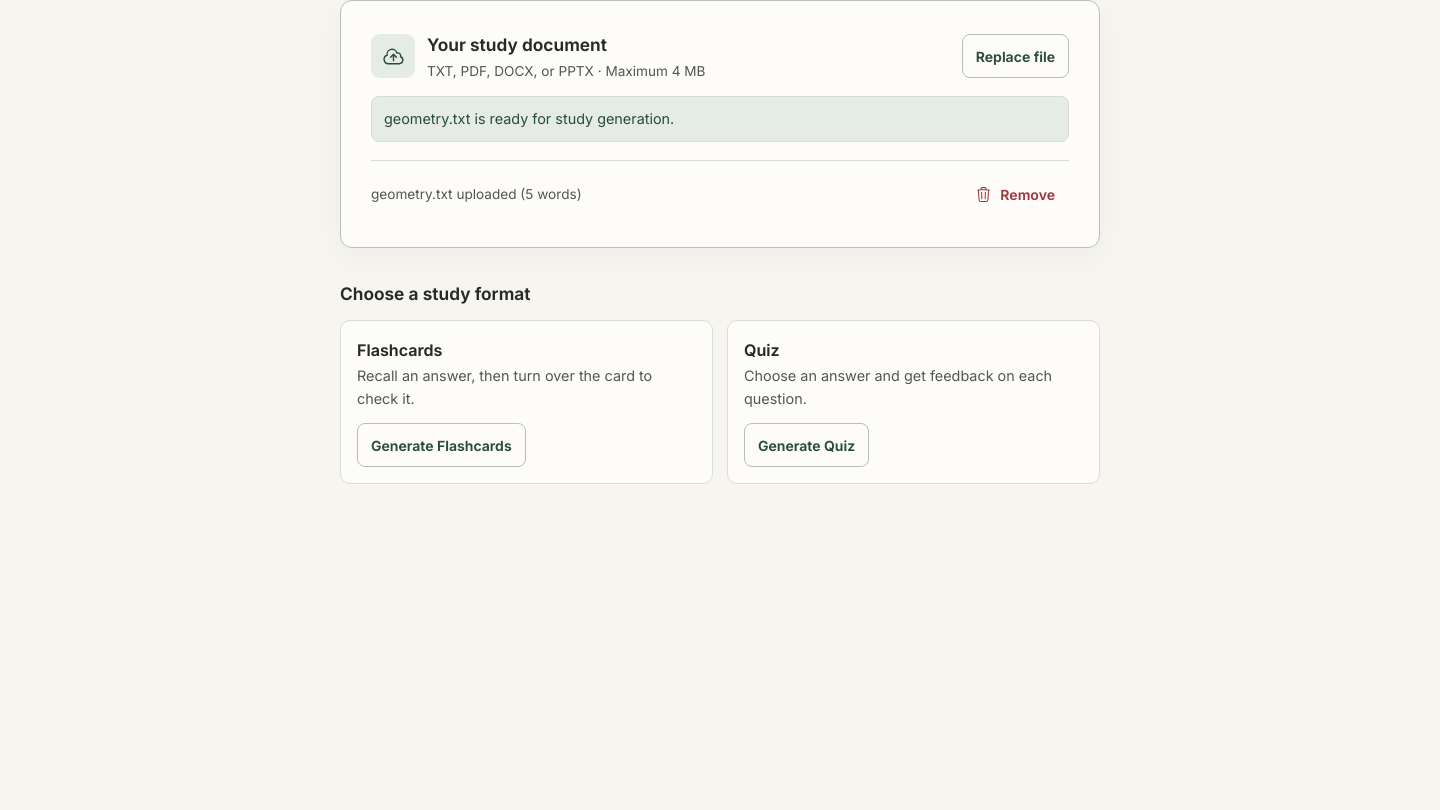
remove while generation is pending discards stale results
Earlier steps of the test are not shown.
Expected: the text "geometry.txt uploaded (5 words)" is shown, [371,184,582,206]
What coordinates should you click on to do the following:
click the button "Generate Flashcards"
I would click on:
 (441, 445)
Its box is [357,423,526,467].
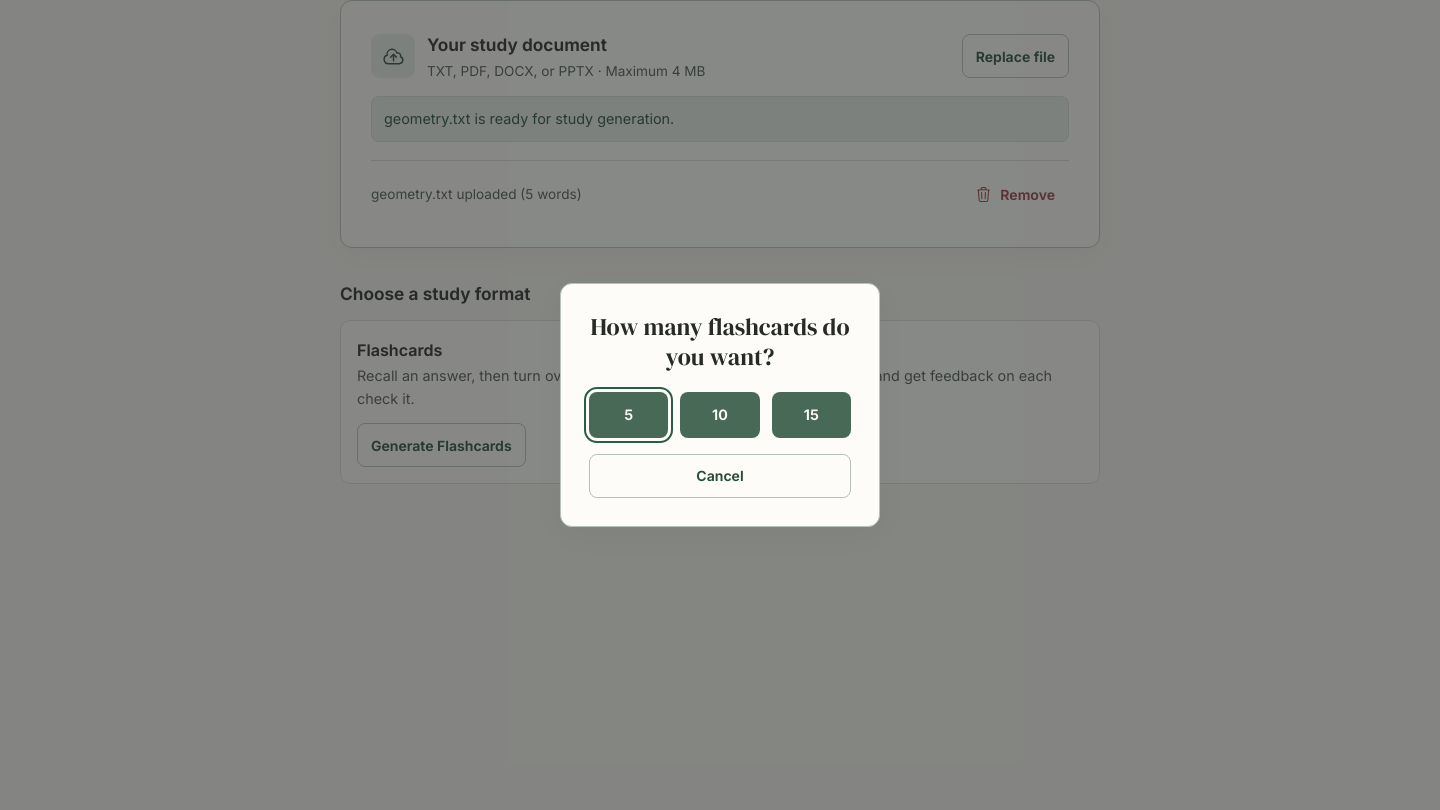
What coordinates should you click on to do the following:
click the button "5"
I would click on:
 (629, 415)
Its box is [589,392,668,438].
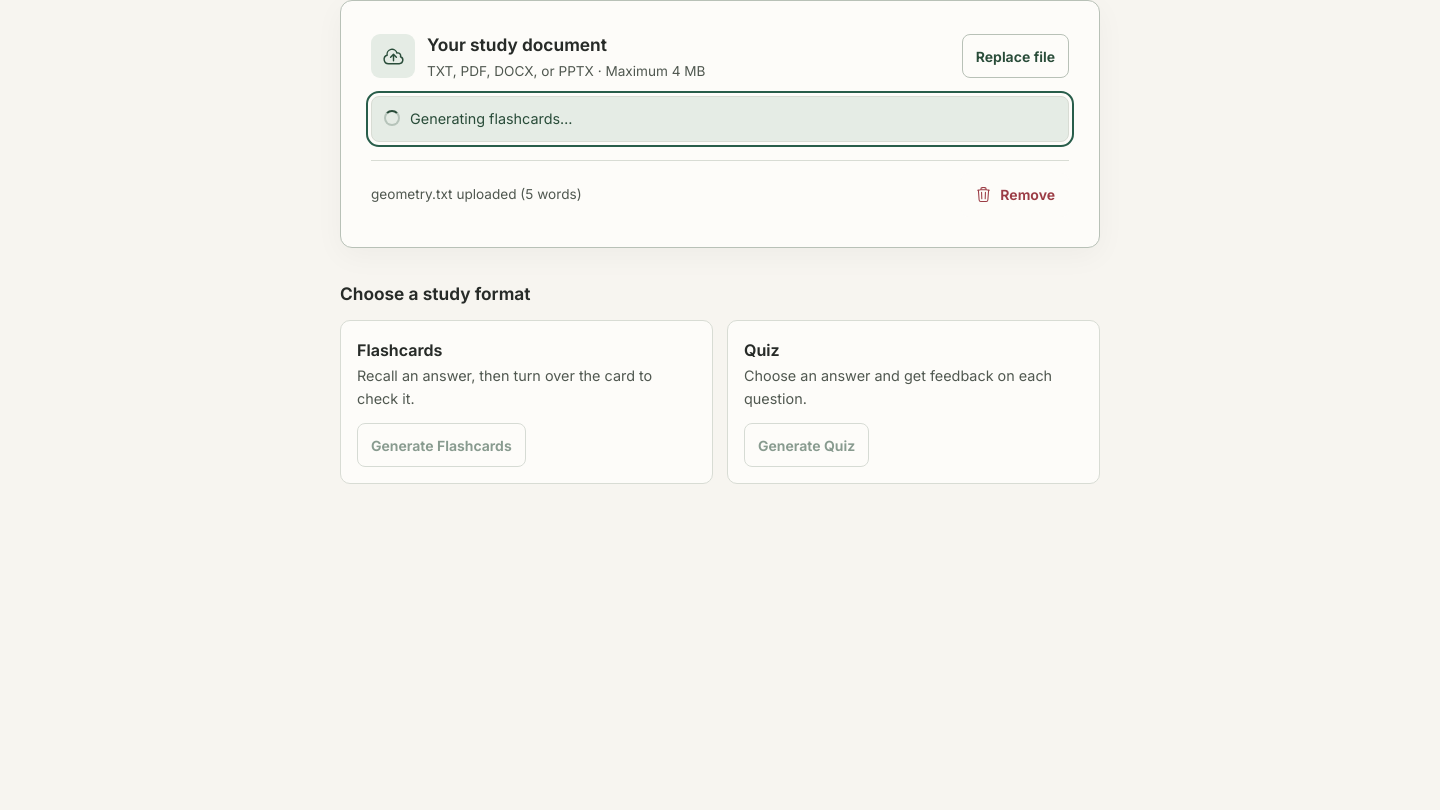
What coordinates should you click on to do the following:
click the button with aria-label "Remove document"
I would click on:
 (1015, 195)
Its box is [961,173,1069,217].
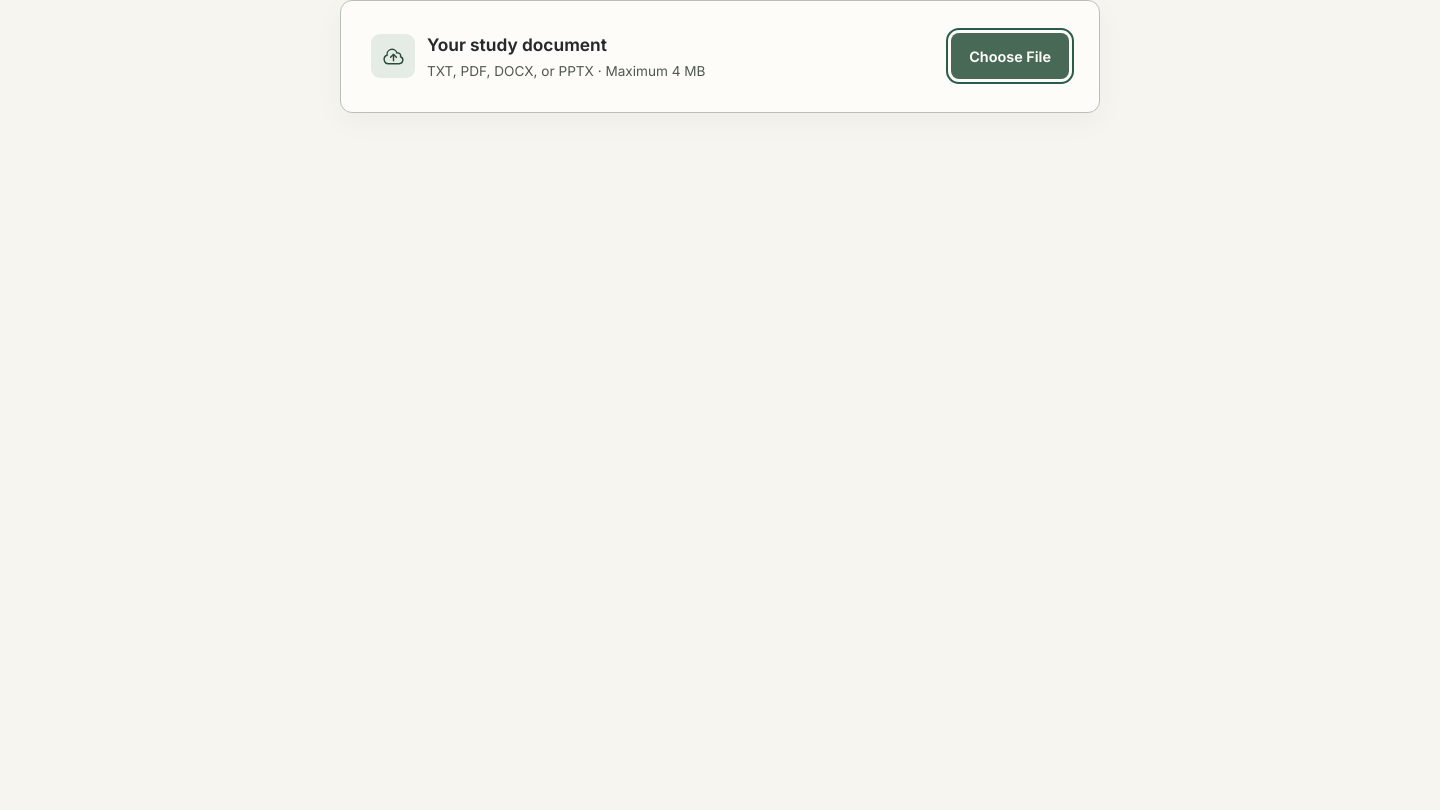
Expected: the message "Generating flashcards…" is gone
